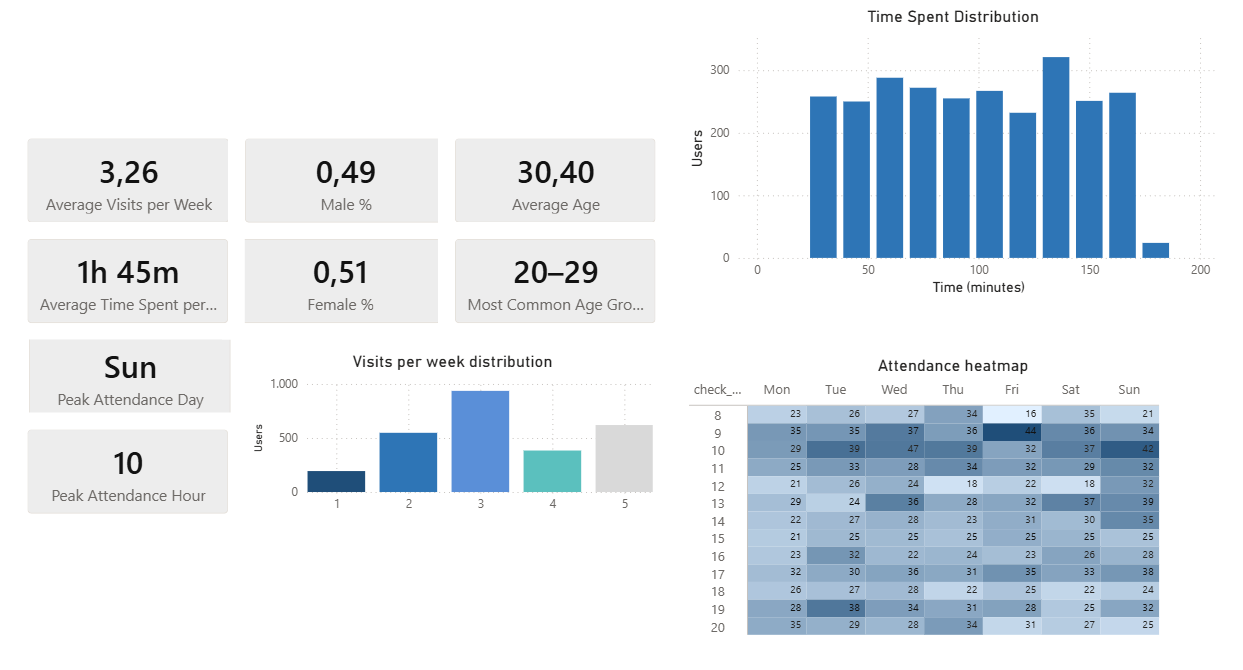

Layout of this report page (visuals, bound fields, positions):
{"tool":"powerbi","page":{"name":"Overview","canvas":[1280,720],"ordinal":0},"visuals":[{"type":"clusteredColumnChart","title":"Time Spent Distribution","fields":{"Y":["CountNonNull(gym_membership.id)"],"Category":["gym_membership.avg_time_in_gym (ubicaciones)"]},"box":[704.9,30.6,550,300],"z":0,"group":"g2"},{"type":"cardVisual","fields":{"Data":["gym_membership.Average Visits per Week"]},"box":[16.7,148.6,240,120],"z":0,"group":"g3"},{"type":"cardVisual","fields":{"Data":["gym_membership.Peak Attendance Day"]},"box":[17.7,347.1,240.6,120.3],"z":1000,"group":"g3"},{"type":"pivotTable","title":"Attendance heatmap","fields":{"Values":["CountNonNull(gym_membership.id)"],"Rows":["gym_membership.check_in_hour"],"Columns":["DIM_DAYS.day_name"]},"box":[704.9,387.1,549.6,300.8],"z":1000,"group":"g2"},{"type":"group","id":"g1","title":"Group 2","box":[16.7,148.6,677.8,415.9],"z":2000},{"type":"cardVisual","fields":{"Data":["gym_membership.Peak Attendance Hour"]},"box":[16.7,445.3,239.6,120.3],"z":2000,"group":"g3"},{"type":"group","id":"g2","title":"Group 3","box":[704.9,30.6,550.1,657.4],"z":2001},{"type":"cardVisual","fields":{"Data":["gym_membership.Female %"]},"box":[232.2,251.8,240.6,120.3],"z":3000,"group":"g3"},{"type":"cardVisual","fields":{"Data":["gym_membership.Male %"]},"box":[238.2,148.6,239.6,120],"z":4000,"group":"g3"},{"type":"cardVisual","fields":{"Data":["gym_membership.Average Age"]},"box":[453.7,148.6,239.6,120.3],"z":5000,"group":"g3"},{"type":"cardVisual","fields":{"Data":["gym_membership.Average Time Spent (H:M)"]},"box":[16.7,251.8,239.6,120.3],"z":6000,"group":"g3"},{"type":"cardVisual","fields":{"Data":["gym_membership.Most Common Age Group"]},"box":[453.7,251.8,239.6,120.3],"z":7000,"group":"g3"},{"type":"clusteredColumnChart","title":"Visits per week distribution","fields":{"Category":["gym_membership.visit_per_week"],"Y":["CountNonNull(gym_membership.id)"]},"box":[258.5,383.2,419.1,173.7],"z":8000,"group":"g1"},{"type":"group","id":"g3","title":"Group 1","box":[16.7,148.6,677,417.3],"z":10001,"group":"g1"}]}

Visuals, with their boxes on the page's 1280x720 design canvas (x1, y1, x2, y2). These are canvas units, not pixel positions in the 1243x670 screenshot, which may show the page scaled, cropped or inside an application window:
"Time Spent Distribution" clusteredColumnChart: <bbox>705, 31, 1255, 331</bbox>
cardVisual - gym_membership.Average Visits per Week: <bbox>17, 149, 257, 269</bbox>
cardVisual - gym_membership.Peak Attendance Day: <bbox>18, 347, 258, 467</bbox>
"Attendance heatmap" pivotTable: <bbox>705, 387, 1254, 688</bbox>
"Group 2" group: <bbox>17, 149, 694, 564</bbox>
cardVisual - gym_membership.Peak Attendance Hour: <bbox>17, 445, 256, 566</bbox>
"Group 3" group: <bbox>705, 31, 1255, 688</bbox>
cardVisual - gym_membership.Female %: <bbox>232, 252, 473, 372</bbox>
cardVisual - gym_membership.Male %: <bbox>238, 149, 478, 269</bbox>
cardVisual - gym_membership.Average Age: <bbox>454, 149, 693, 269</bbox>
cardVisual - gym_membership.Average Time Spent (H:M): <bbox>17, 252, 256, 372</bbox>
cardVisual - gym_membership.Most Common Age Group: <bbox>454, 252, 693, 372</bbox>
"Visits per week distribution" clusteredColumnChart: <bbox>258, 383, 678, 557</bbox>
"Group 1" group: <bbox>17, 149, 694, 566</bbox>
